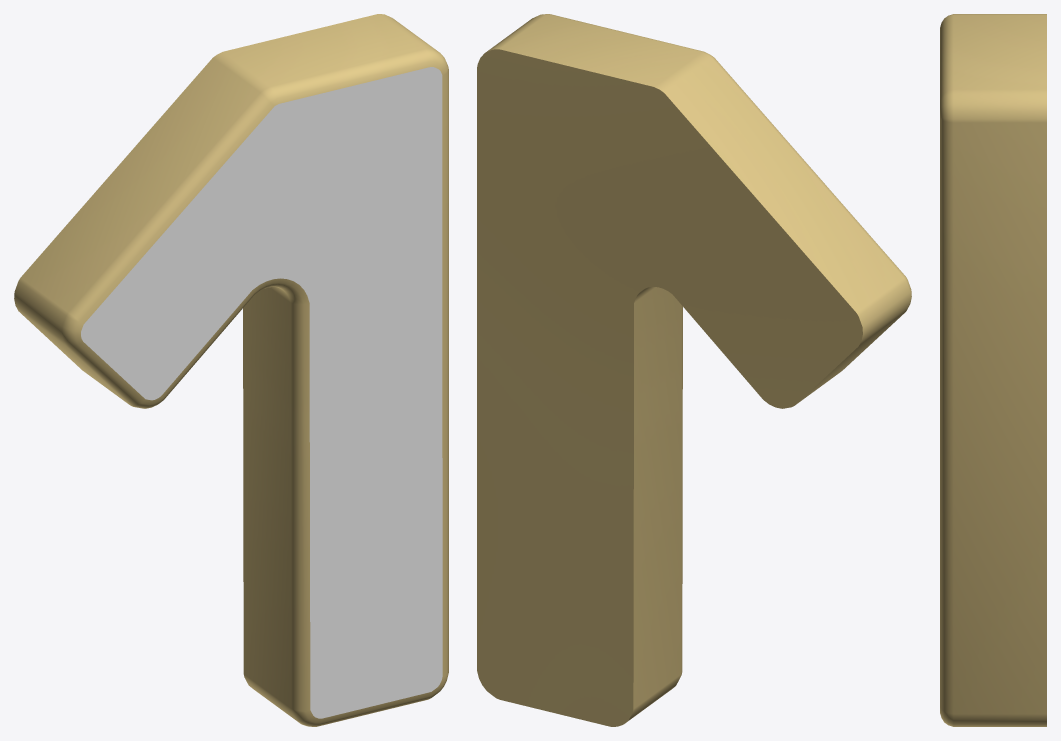
Rendered from LettersLightUp02_1.FBX.
The picture shows the model from 3 angles, left to right: view 1: azimuth 30°, elevation 25°; view 2: azimuth 150°, elevation 25°; view 3: azimuth 270°, elevation 25°; orthographic projection. The views are drawn at different scales.
Parts seen in each view (by area): view 1: LettersLightUp02_1; view 2: LettersLightUp02_1; view 3: LettersLightUp02_1.
Part boxes in pixels (<box>): LettersLightUp02_1: <box>14,14,448,726</box>; LettersLightUp02_1: <box>477,14,911,726</box>; LettersLightUp02_1: <box>940,14,1046,726</box>.
Size of what is drawn, in the model's own units: 0.3723 by 0.5996 by 0.0912.
